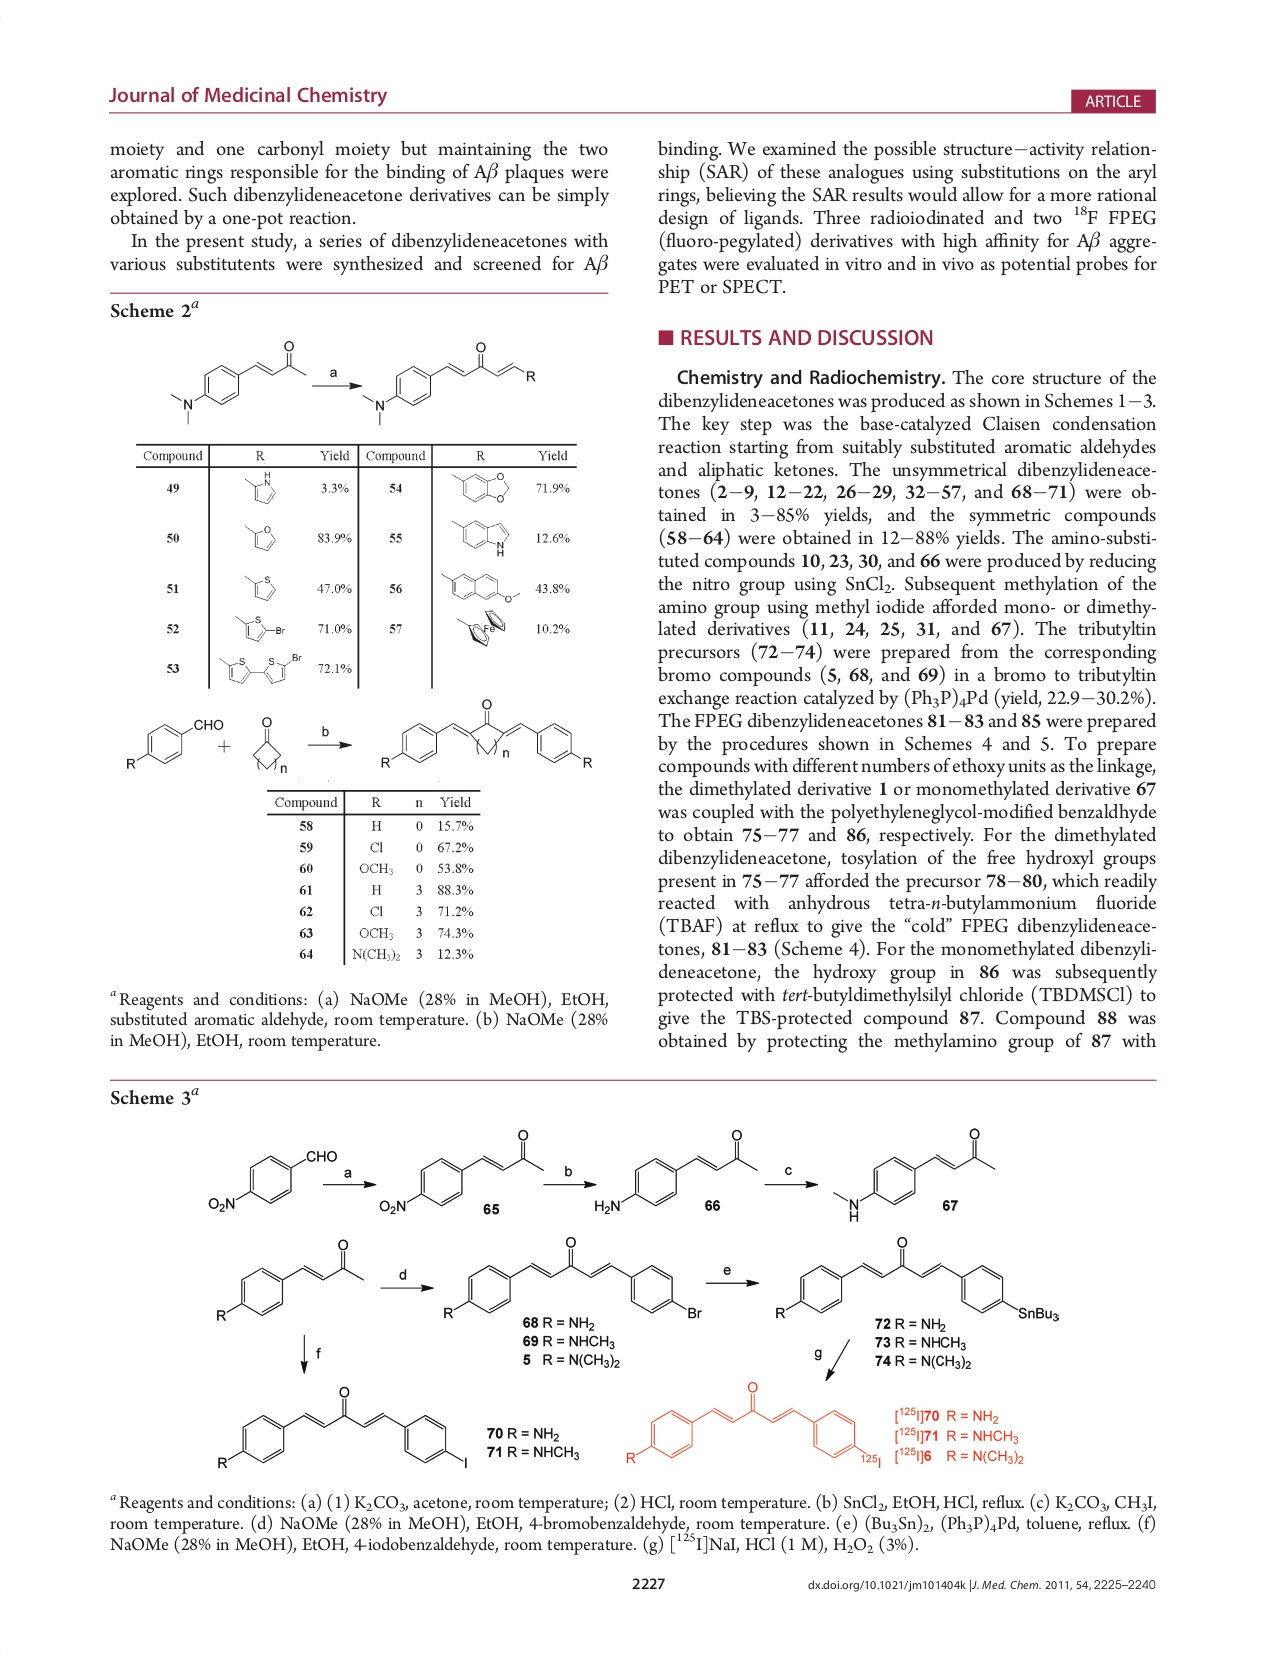exist_molecular: (773, 1234, 1063, 1325), (622, 1380, 883, 1470), (215, 1383, 471, 1474), (440, 1235, 705, 1318), (379, 697, 594, 777), (826, 1125, 997, 1223), (359, 338, 539, 430), (592, 1126, 759, 1217), (376, 1128, 544, 1214), (164, 335, 307, 430), (211, 1234, 364, 1321), (203, 1148, 339, 1212), (122, 717, 223, 771), (438, 567, 521, 608), (217, 652, 303, 688), (251, 711, 295, 781), (445, 516, 515, 559), (449, 469, 513, 507), (452, 608, 508, 650), (234, 613, 287, 644), (241, 469, 277, 507), (243, 571, 277, 605), (243, 523, 277, 553)
